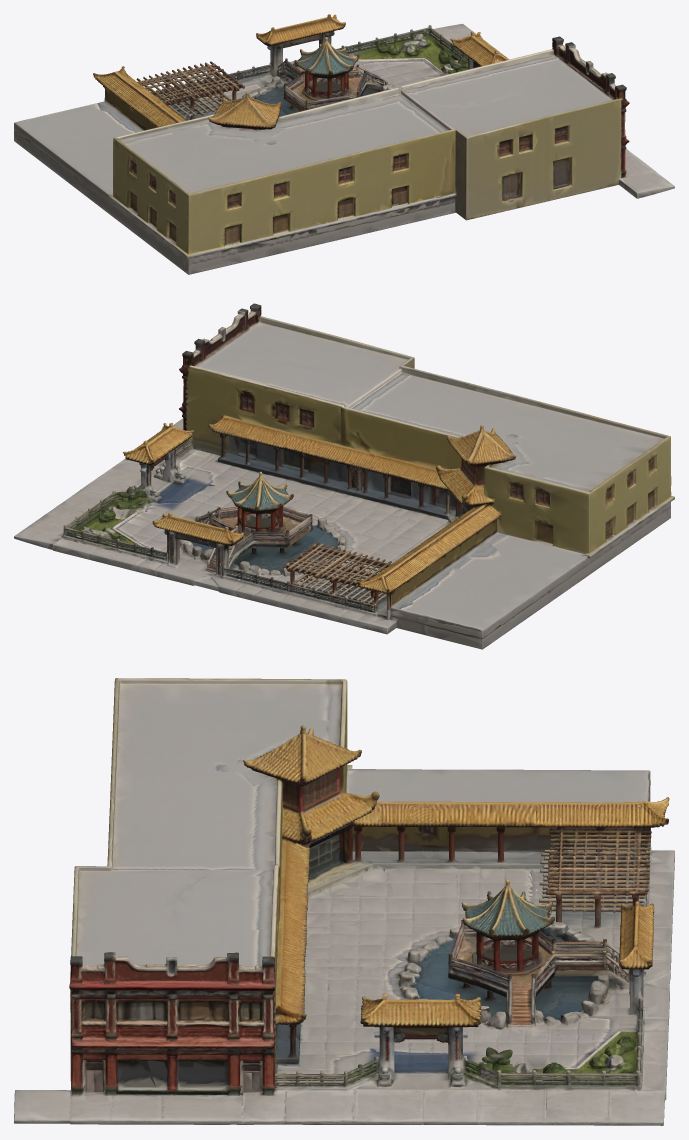
3 views of the same model, one above another, from view 1: azimuth 30°, elevation 25°; view 2: azimuth 150°, elevation 25°; view 3: azimuth 270°, elevation 25° (orthographic). The views are drawn at different scales.
Parts seen in each view (by area): view 1: tripo_node_eac1ae08-f905-4bf0-b00f-0ed69ae0b993; view 2: tripo_node_eac1ae08-f905-4bf0-b00f-0ed69ae0b993; view 3: tripo_node_eac1ae08-f905-4bf0-b00f-0ed69ae0b993.
Part boxes in pixels (<box>): tripo_node_eac1ae08-f905-4bf0-b00f-0ed69ae0b993: <box>14,14,674,274</box>; tripo_node_eac1ae08-f905-4bf0-b00f-0ed69ae0b993: <box>14,303,674,649</box>; tripo_node_eac1ae08-f905-4bf0-b00f-0ed69ae0b993: <box>14,678,674,1125</box>.
Size of the model in its own units: 1.74 by 0.4028 by 1.45.
Materials: 1 (1 with a texture image).
